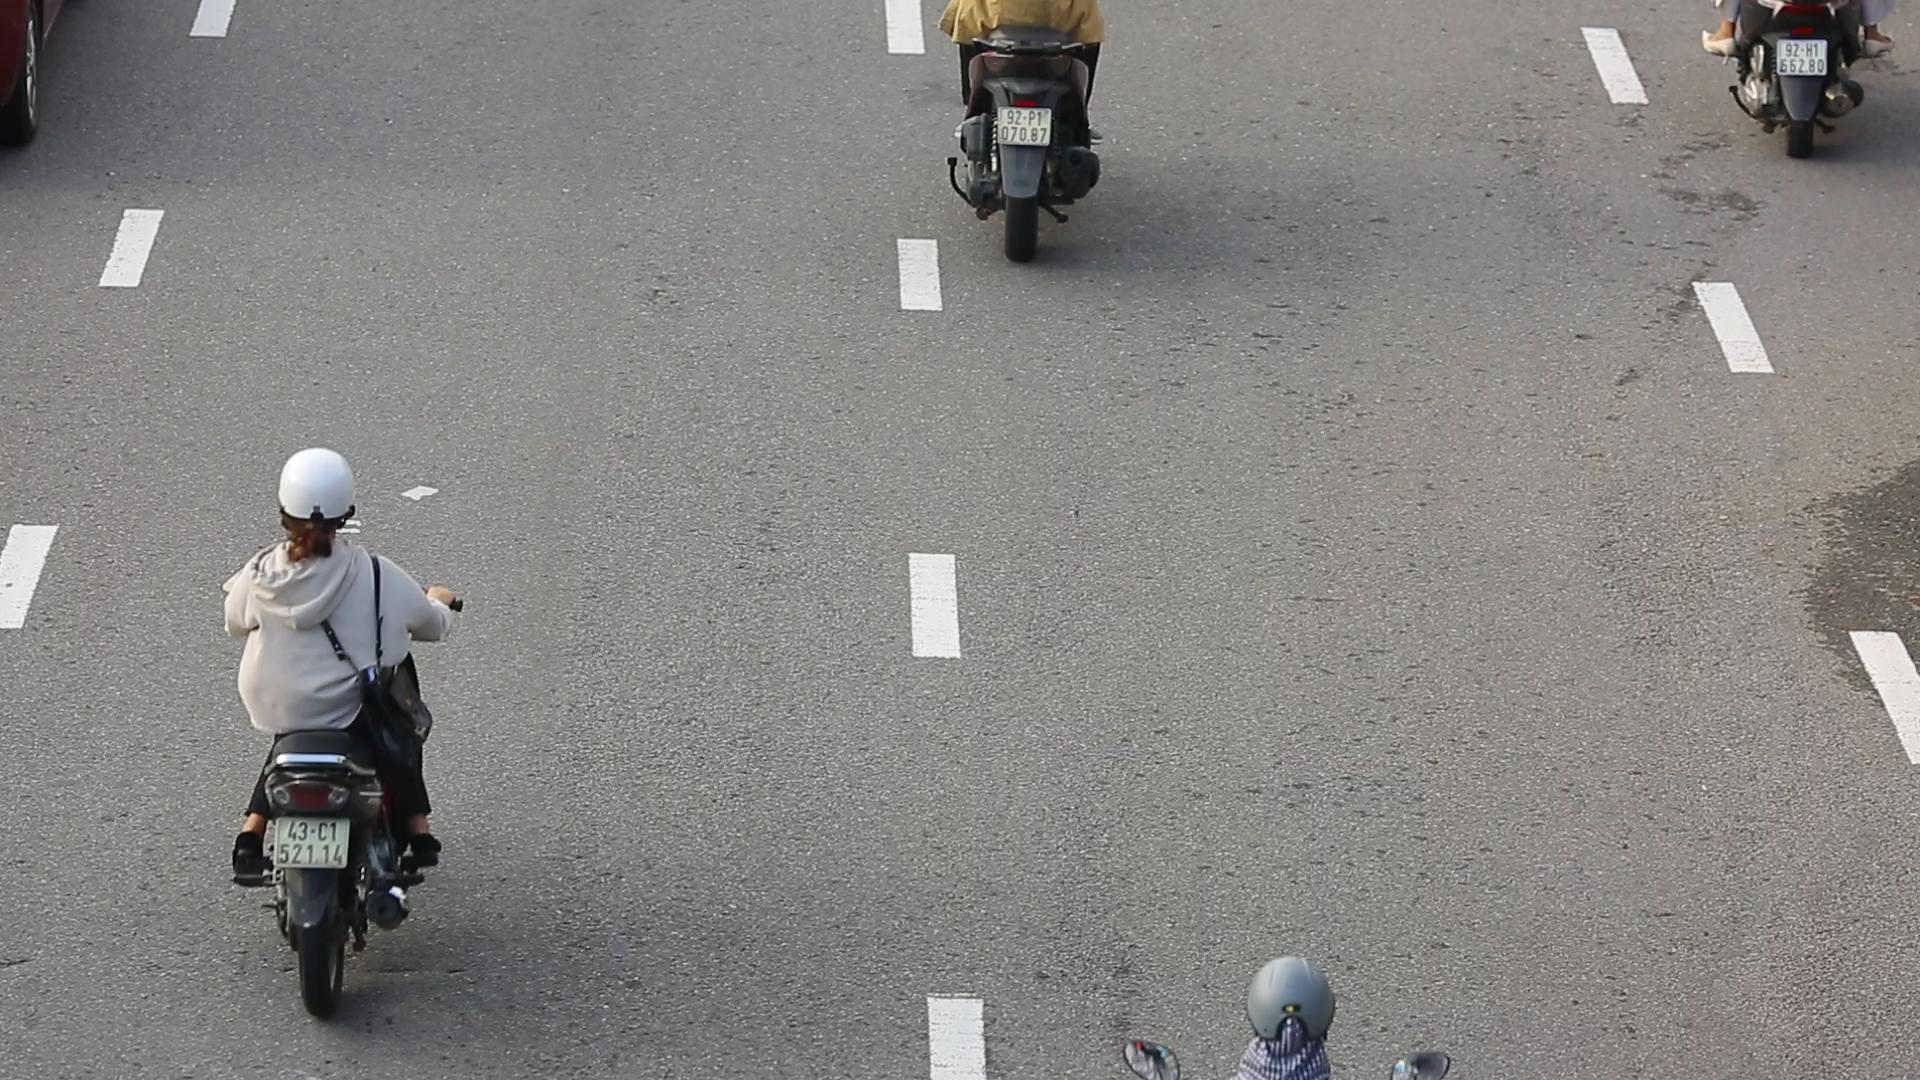motobike: (210, 443, 479, 1022)
